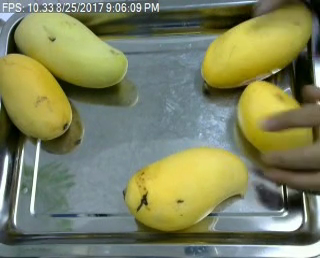Mango: (121, 145, 249, 231), (9, 9, 130, 92), (202, 4, 312, 91), (234, 79, 313, 162), (0, 53, 76, 139)
